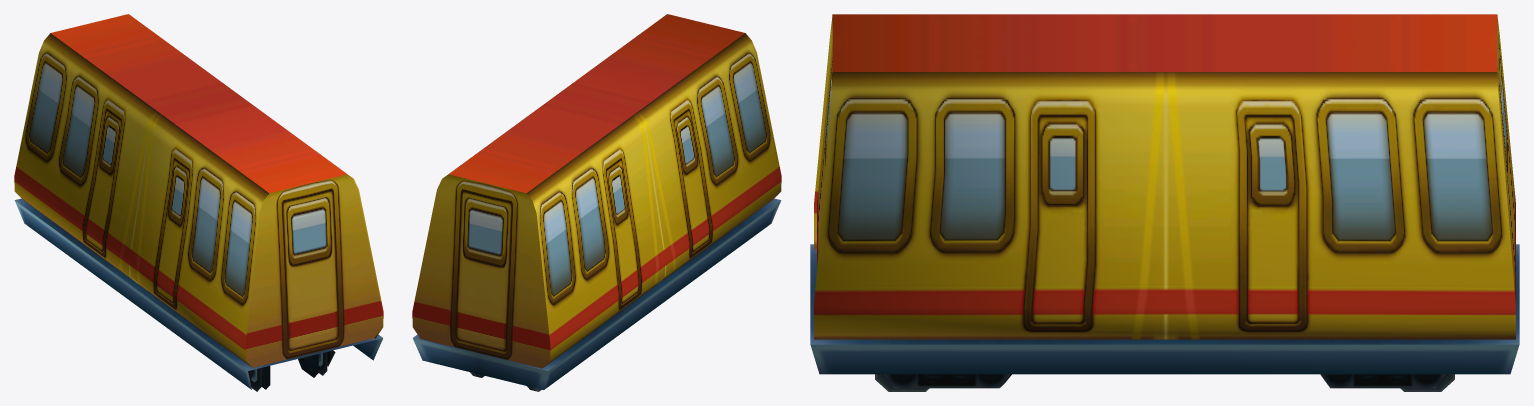
Rendered from Train 02.fbx.
The picture shows the model from 3 angles, left to right: view 1: azimuth 30°, elevation 25°; view 2: azimuth 150°, elevation 25°; view 3: azimuth 270°, elevation 25°; orthographic projection. The views are drawn at different scales.
Parts seen in each view (by area): view 1: default.008; view 2: default.008; view 3: default.008.
Boxes of the visible parts, <box> form: default.008: <box>14,14,383,391</box>; default.008: <box>412,14,781,391</box>; default.008: <box>810,14,1519,391</box>.
Bounding box in the file's own units: 1885 × 2784 × 5513.
